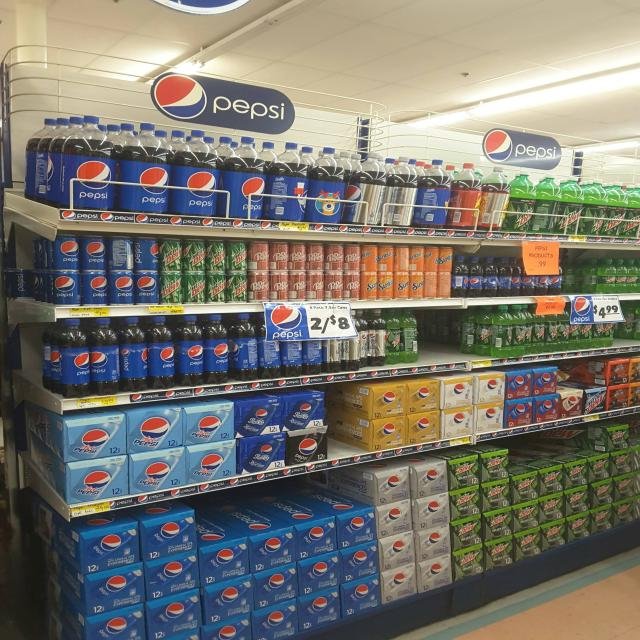void: (331, 384, 369, 464), (464, 310, 489, 368), (422, 308, 442, 370), (445, 310, 462, 372), (564, 257, 580, 301), (615, 301, 629, 351), (584, 252, 598, 300), (632, 300, 640, 351)
